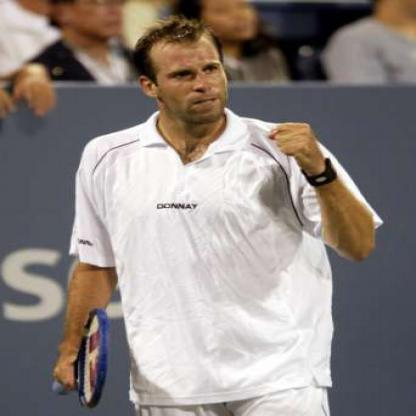face: (153, 27, 231, 127), (201, 1, 260, 45), (67, 1, 131, 40)
